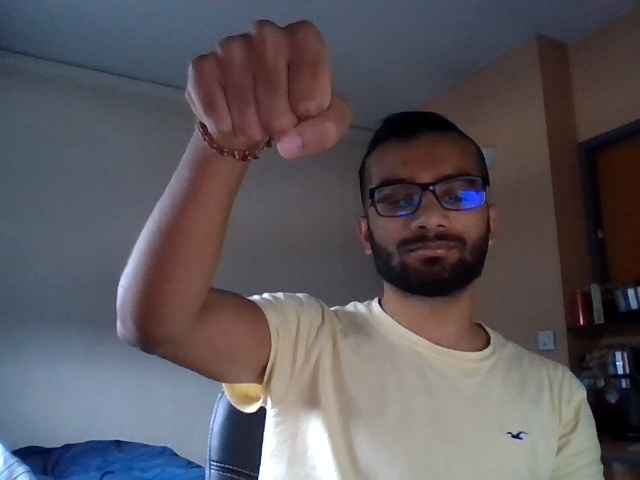Yes: (156, 11, 358, 165)
